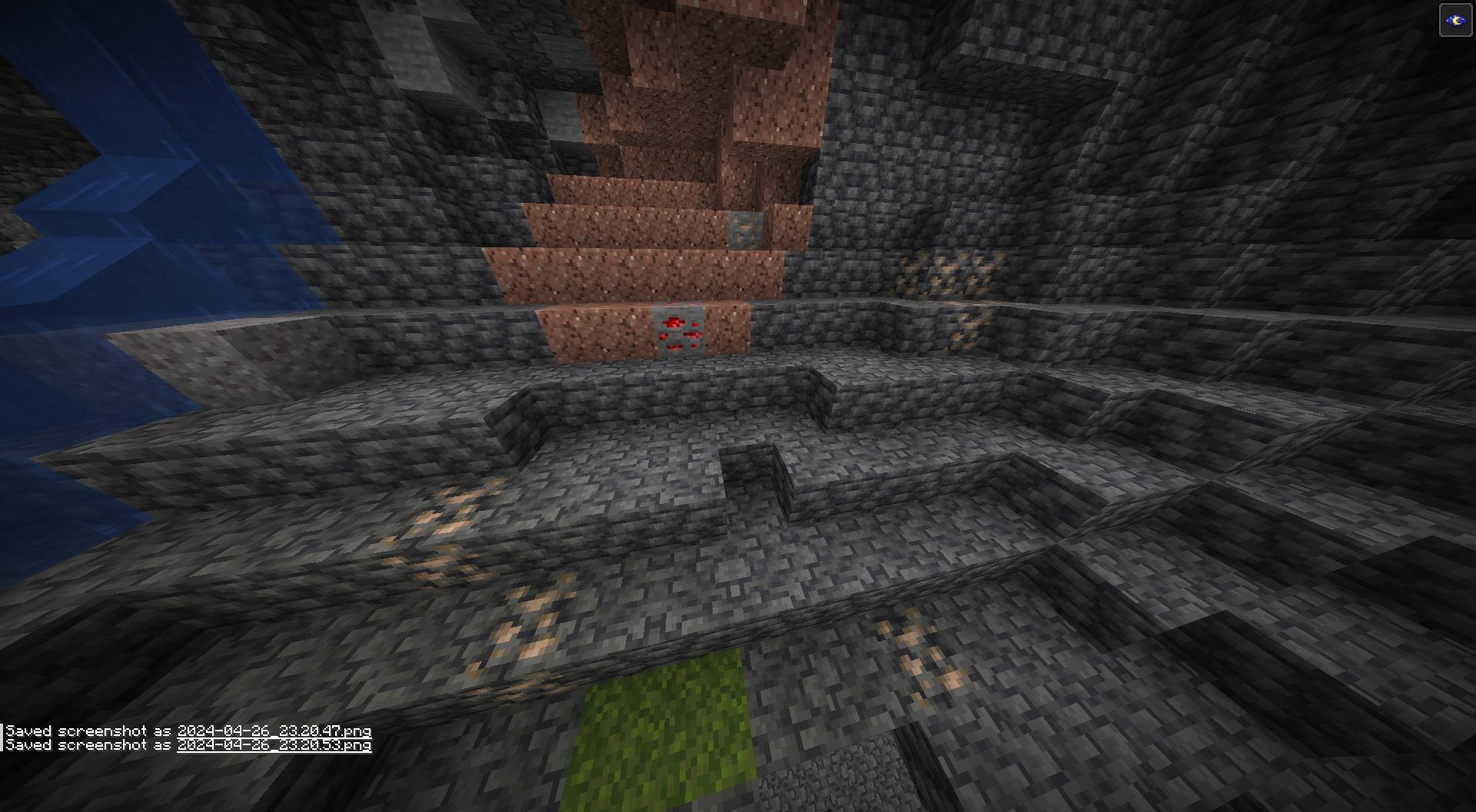iron ore: (877, 608, 969, 705), (483, 583, 563, 664), (393, 482, 492, 539), (395, 549, 482, 592), (950, 304, 998, 351), (964, 252, 1006, 299), (895, 254, 928, 299), (927, 256, 960, 300)
